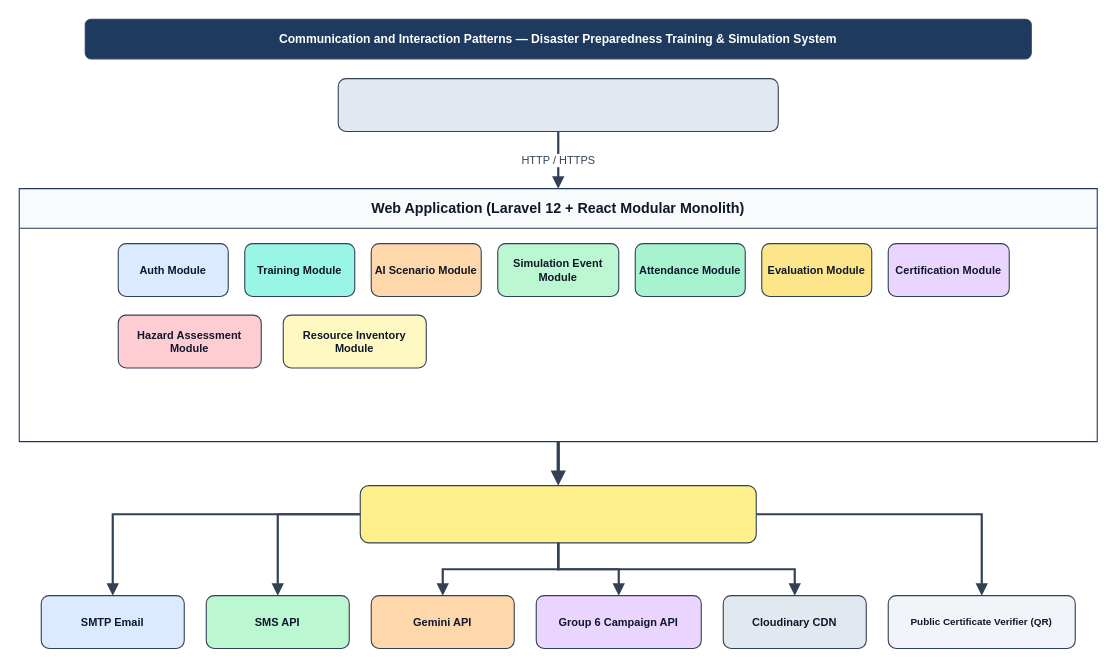
This 1117x668 diagram has some shape labels left out. The shapes that lost their labels are listed below. From the top down, each one's centre as x and y in pixels, then its label:
(557,104): LGU Admin · Trainer · Evaluator · Participant
(557,514): MySQL 8.0 Database (InnoDB)
